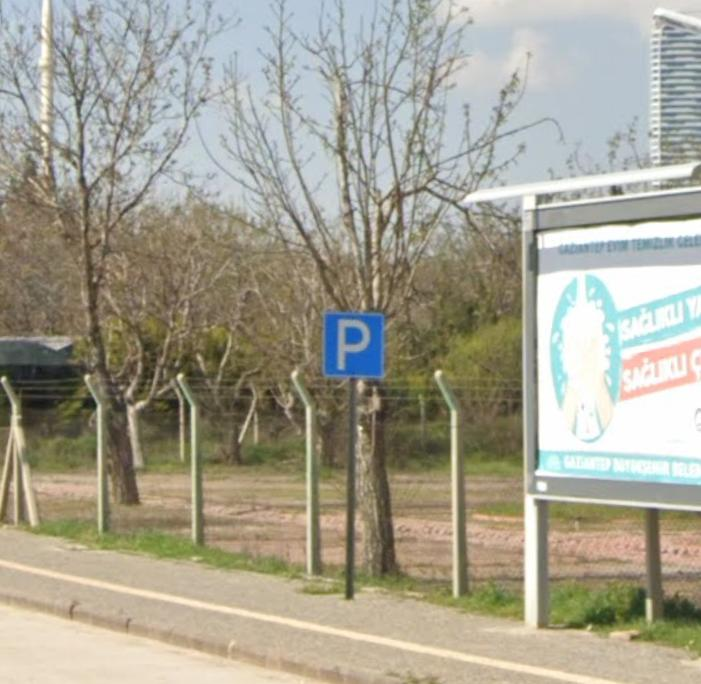park: (327, 311, 385, 377)
